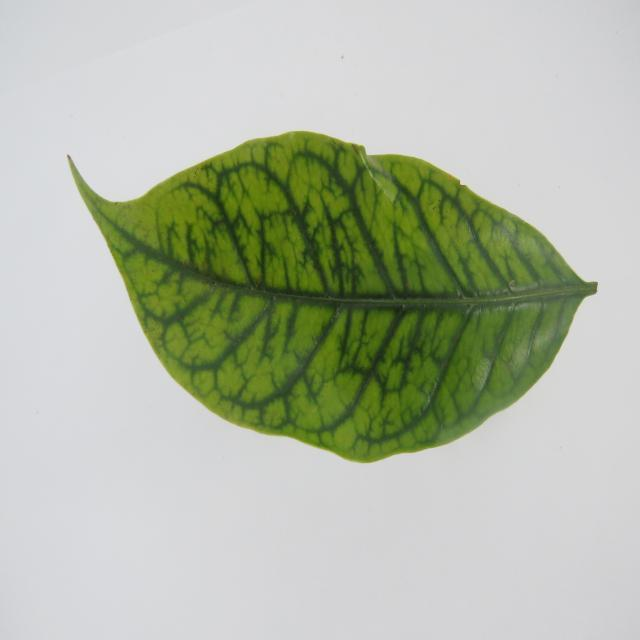DeficienciaNutricional-Magnesio: (69, 132, 596, 462)
